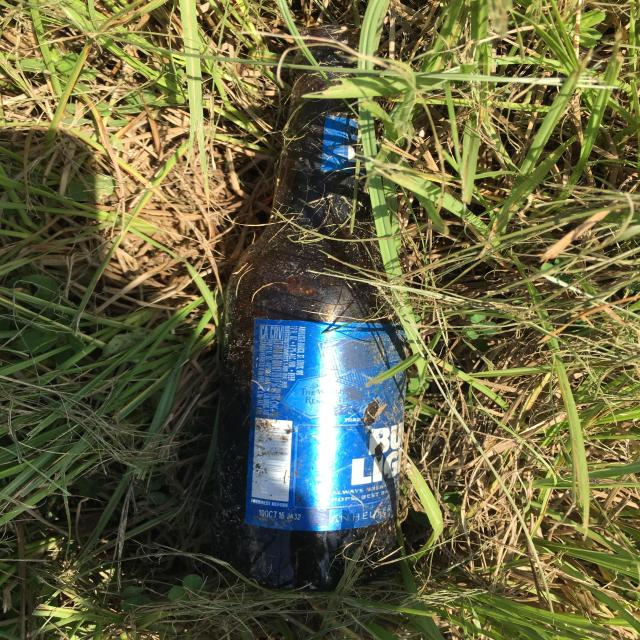litter: (31, 169, 640, 323)
